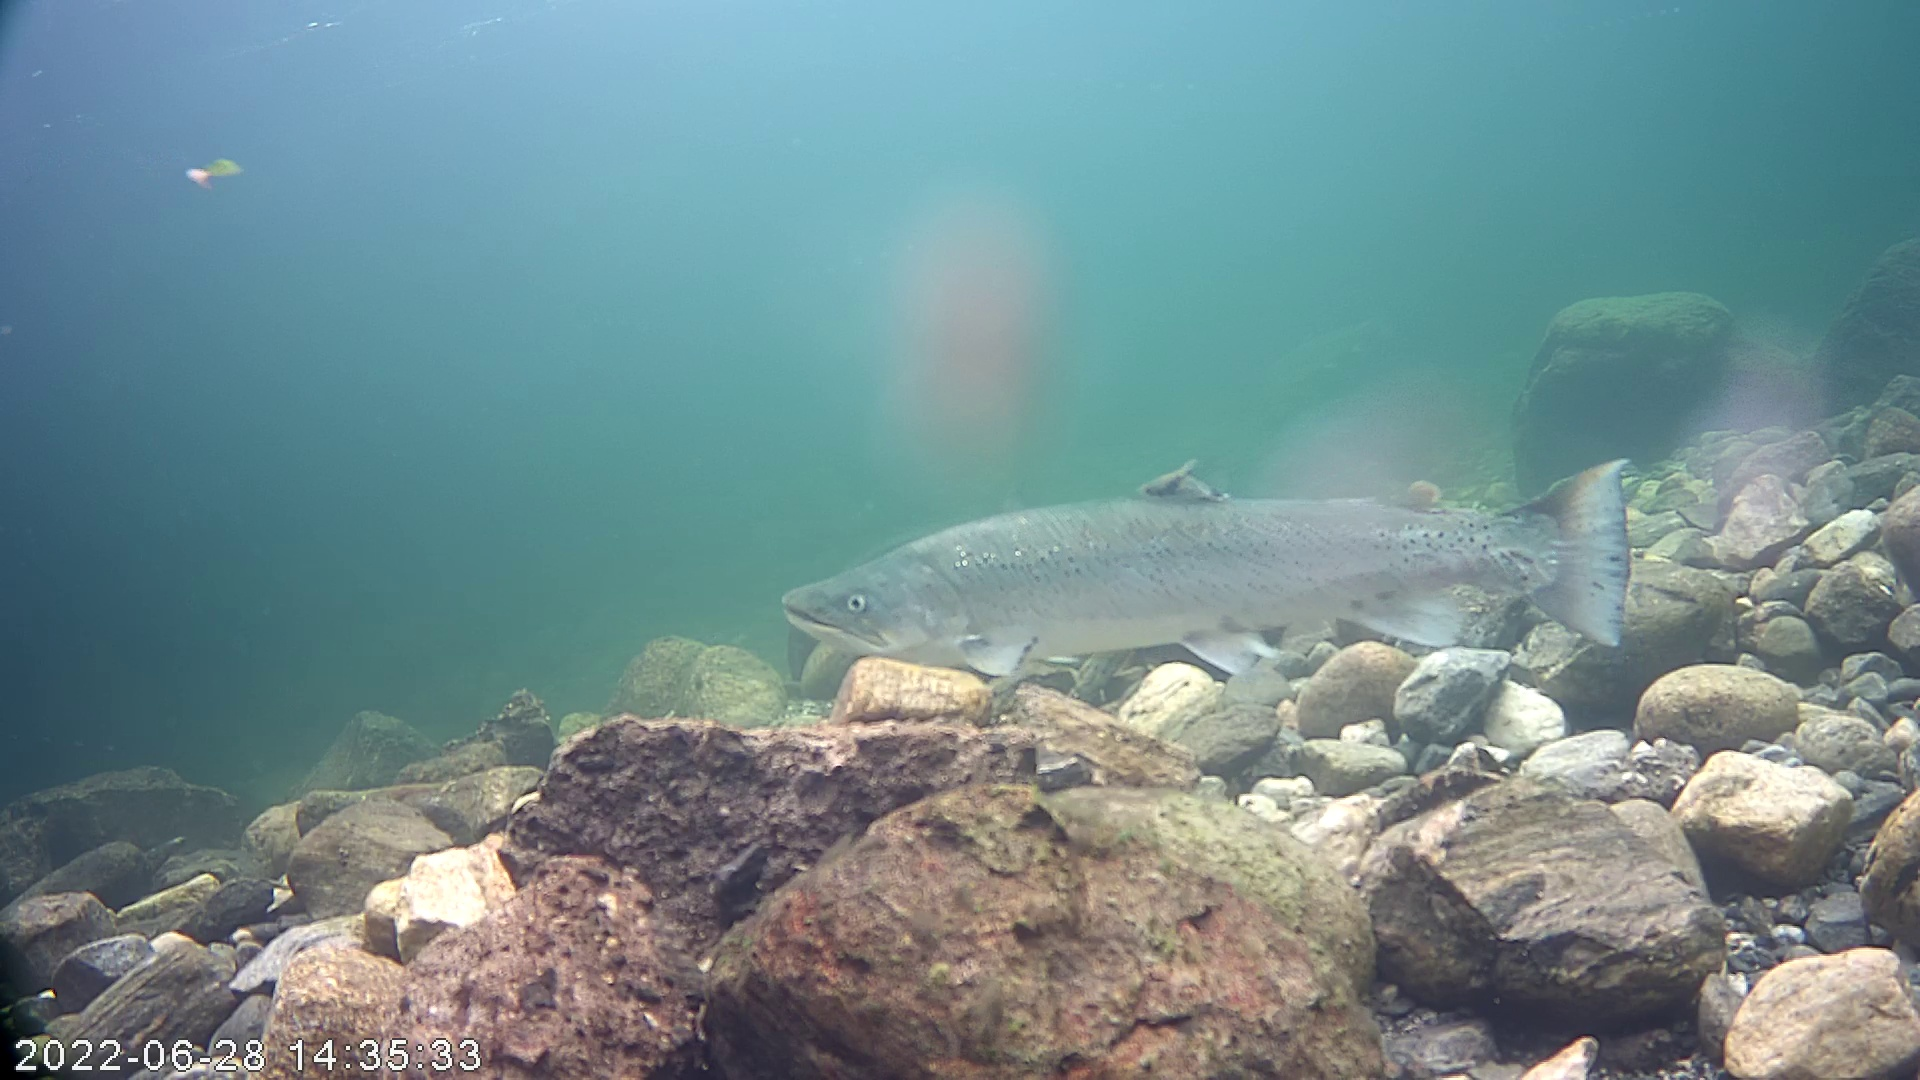salmon: (760, 331, 1677, 716)
